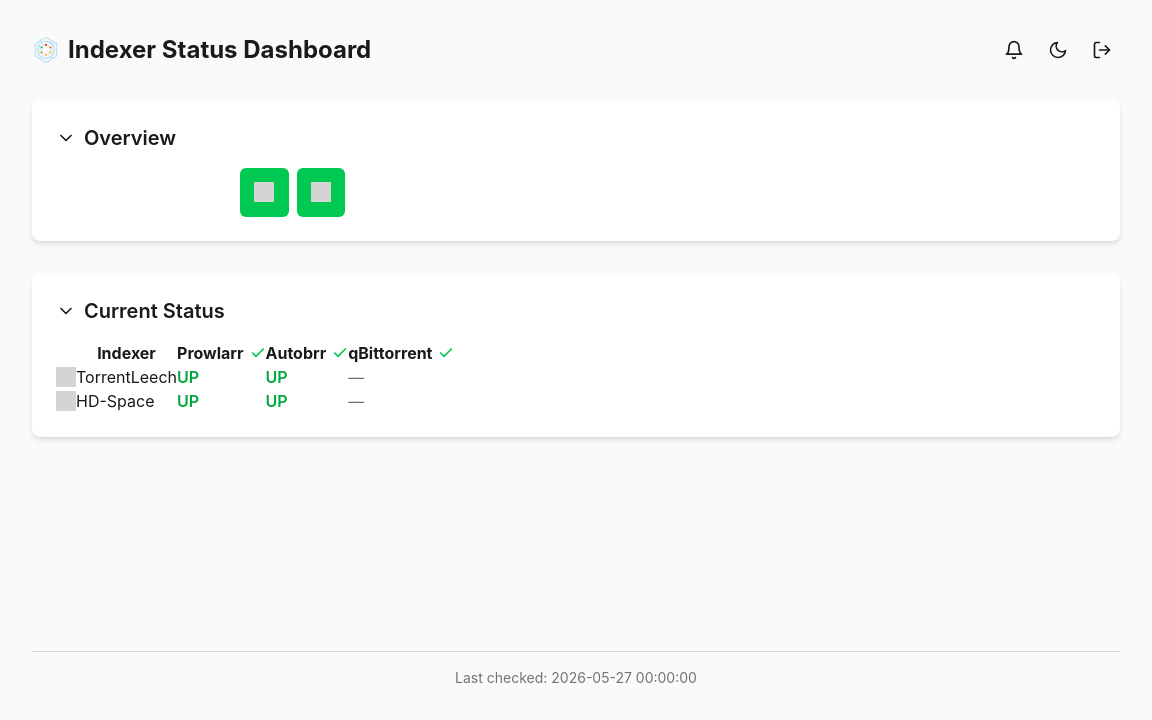
DashboardPage › shows success message when test notification succeeds
Click the button named "Test notifications" at [1014, 50], box [996,32,1032,68]
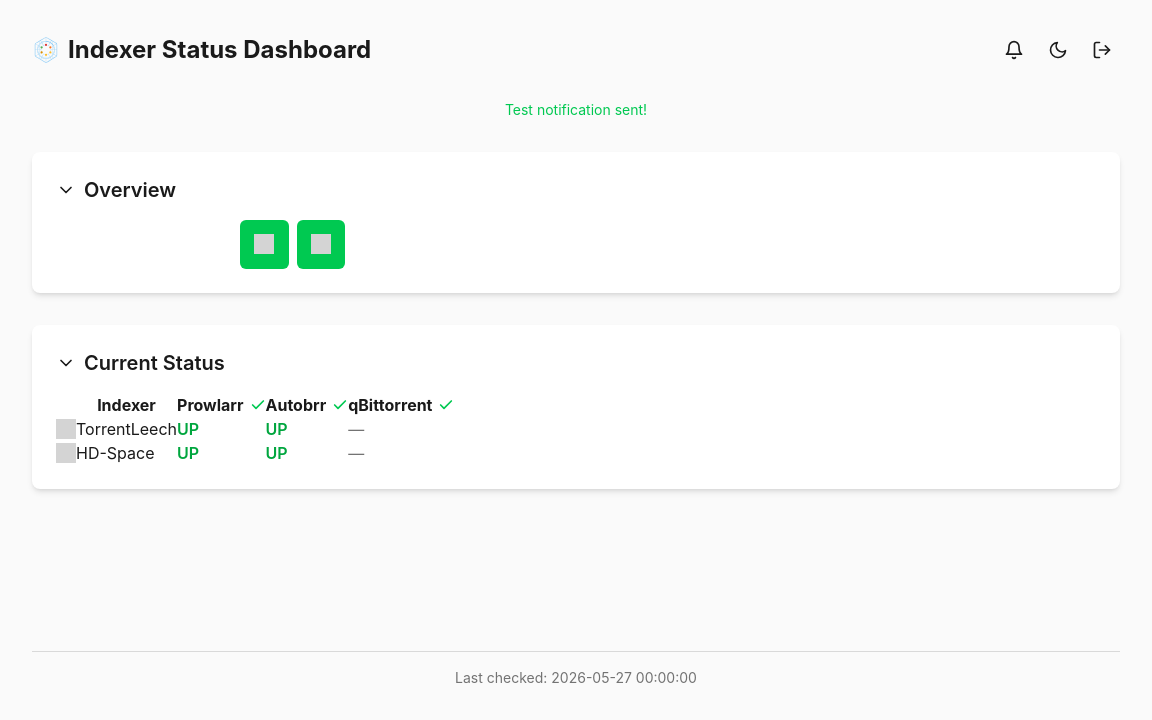
Now the text "Test notification sent!" is shown, box [505,101,647,118]
